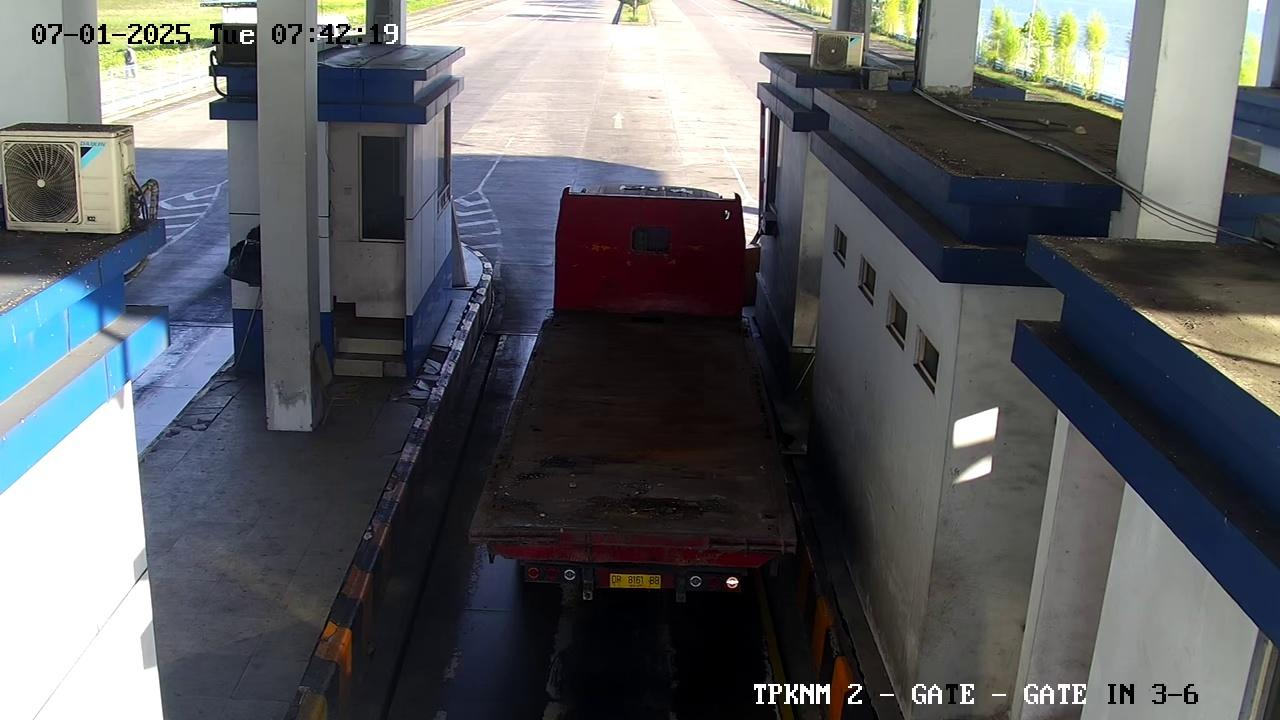plate_number: (606, 554, 668, 601)
